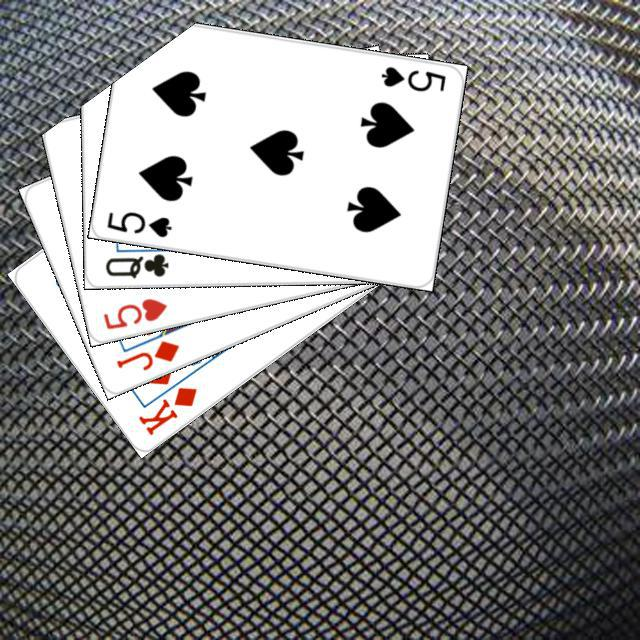5h: (98, 293, 169, 331)
5s: (102, 206, 174, 239), (376, 61, 447, 94)
Jd: (110, 335, 181, 372)
Kd: (133, 381, 199, 437)
Qc: (100, 242, 177, 279)
